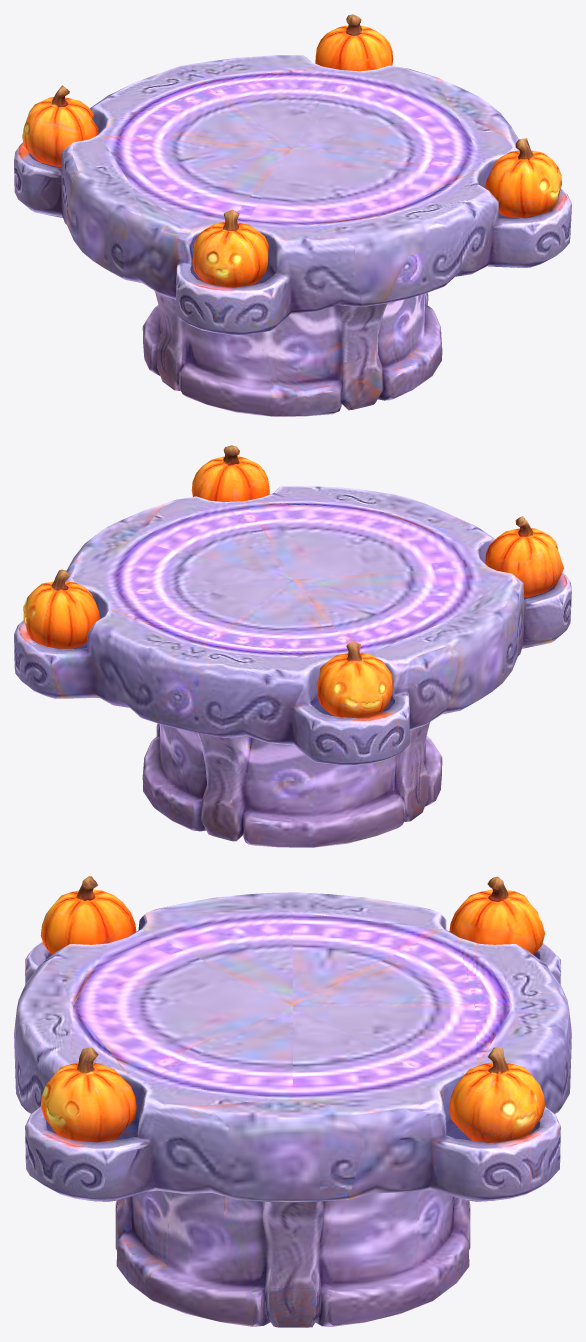
File: pickup_pedestal.glb
3 renders of one model, top to bottom at view 1: azimuth 30°, elevation 25°; view 2: azimuth 150°, elevation 25°; view 3: azimuth 270°, elevation 25°, orthographic. The views are drawn at different scales.
Visible parts, largest first — view 1: pickup_pedestal; view 2: pickup_pedestal; view 3: pickup_pedestal.
Boxes of the visible parts, <box> form: pickup_pedestal: <box>14,14,571,416</box>; pickup_pedestal: <box>14,445,571,847</box>; pickup_pedestal: <box>14,876,571,1327</box>.
Bounding box in the file's own units: 1.3 × 0.7552 × 1.3.
1 material, 1 textured.
